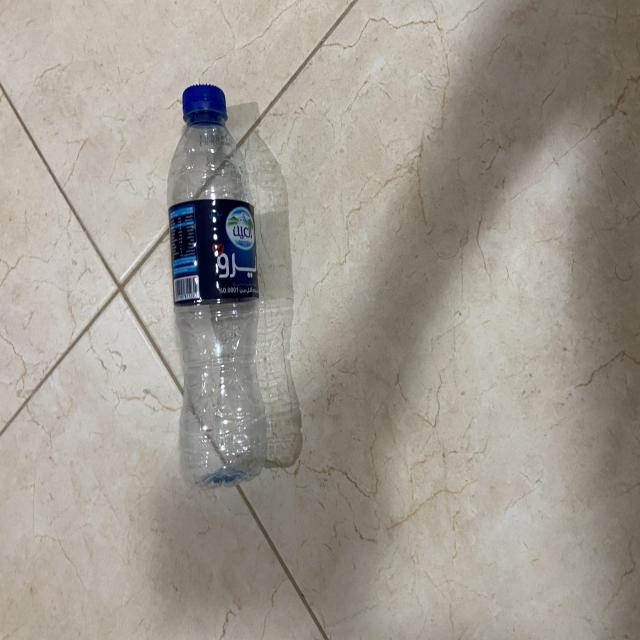bottle: (161, 70, 266, 486)
